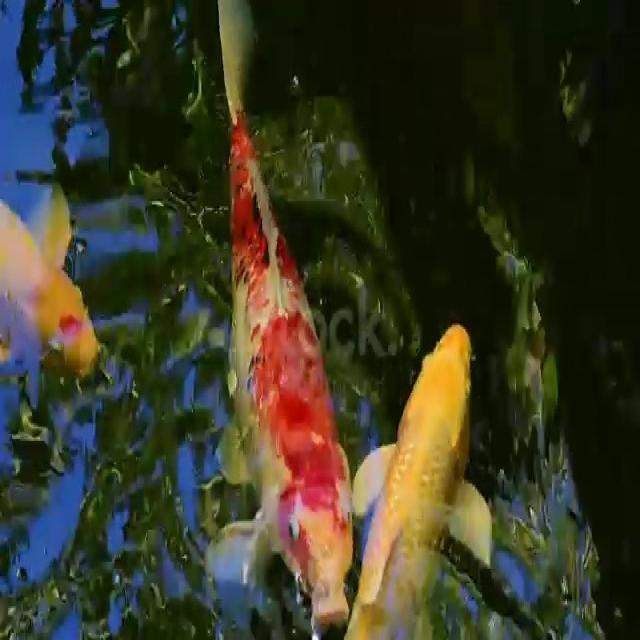fish: (195, 0, 353, 640), (341, 321, 493, 640), (0, 157, 125, 410)
